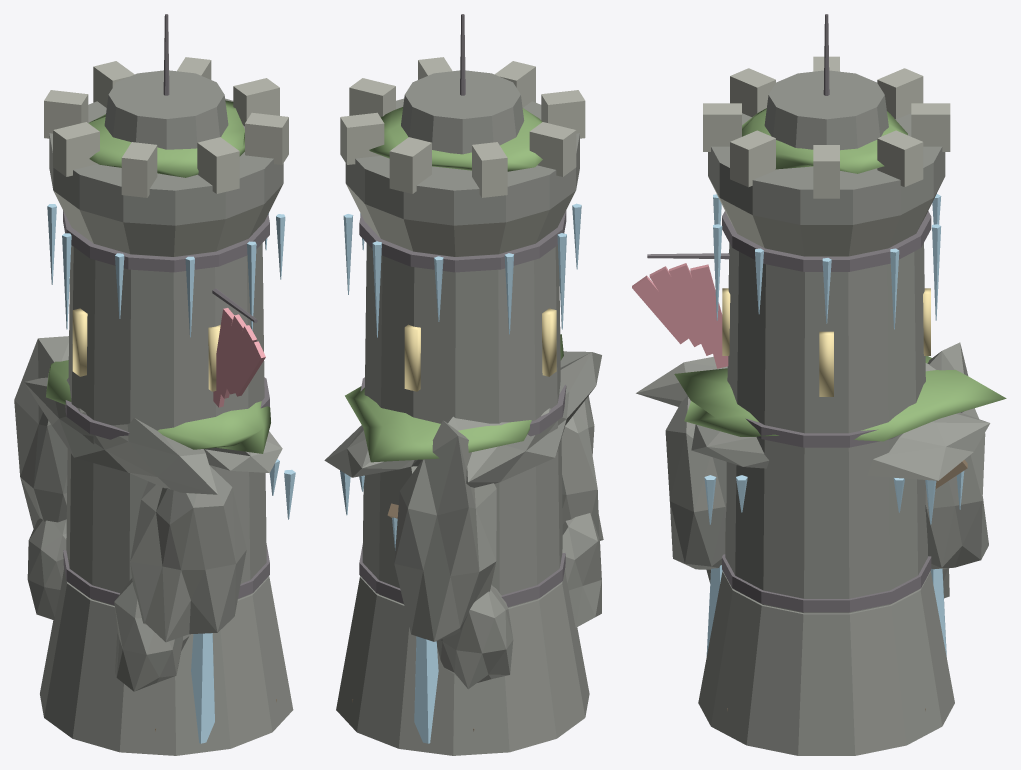
File: FrozenF19Kit.fbx
The picture shows the model from 3 angles, left to right: view 1: azimuth 30°, elevation 25°; view 2: azimuth 150°, elevation 25°; view 3: azimuth 270°, elevation 25°; orthographic projection.
Parts seen in each view (by area): view 1: WhiteguardTower__STONE, IceCaveOverhang__STONE, WhiteguardTower__TRIM, WhiteguardTower__METAL, IceCaveOverhang__MOSS, WhiteguardTower__ALT, WhiteguardTower__MOSS, WhiteguardTower__CRYSTAL, IceCaveOverhang__CRYSTAL, WhiteguardTower__GLOW; view 2: WhiteguardTower__STONE, IceCaveOverhang__STONE, WhiteguardTower__TRIM, WhiteguardTower__METAL, IceCaveOverhang__MOSS, WhiteguardTower__CRYSTAL, WhiteguardTower__MOSS, IceCaveOverhang__CRYSTAL, WhiteguardTower__GLOW; view 3: WhiteguardTower__STONE, IceCaveOverhang__STONE, WhiteguardTower__TRIM, WhiteguardTower__METAL, IceCaveOverhang__MOSS, WhiteguardTower__ALT, WhiteguardTower__CRYSTAL, WhiteguardTower__MOSS, IceCaveOverhang__CRYSTAL, WhiteguardTower__GLOW.
Part boxes in pixels (bbox=[...]): WhiteguardTower__STONE: bbox=[40, 70, 293, 755]; IceCaveOverhang__STONE: bbox=[14, 336, 282, 691]; WhiteguardTower__TRIM: bbox=[44, 57, 288, 256]; WhiteguardTower__METAL: bbox=[63, 14, 269, 605]; IceCaveOverhang__MOSS: bbox=[46, 360, 270, 453]; WhiteguardTower__ALT: bbox=[213, 308, 265, 407]; WhiteguardTower__MOSS: bbox=[88, 100, 244, 177]; WhiteguardTower__CRYSTAL: bbox=[47, 204, 285, 337]; IceCaveOverhang__CRYSTAL: bbox=[191, 459, 295, 743]; WhiteguardTower__GLOW: bbox=[72, 308, 220, 391]; WhiteguardTower__STONE: bbox=[336, 70, 589, 755]; IceCaveOverhang__STONE: bbox=[324, 351, 603, 689]; WhiteguardTower__TRIM: bbox=[340, 57, 585, 256]; WhiteguardTower__METAL: bbox=[359, 14, 566, 607]; IceCaveOverhang__MOSS: bbox=[345, 334, 563, 462]; WhiteguardTower__CRYSTAL: bbox=[343, 203, 581, 337]; WhiteguardTower__MOSS: bbox=[369, 107, 542, 171]; IceCaveOverhang__CRYSTAL: bbox=[340, 470, 438, 743]; WhiteguardTower__GLOW: bbox=[404, 308, 556, 391]; WhiteguardTower__STONE: bbox=[698, 70, 954, 755]; IceCaveOverhang__STONE: bbox=[636, 342, 990, 598]; WhiteguardTower__TRIM: bbox=[703, 56, 950, 256]; WhiteguardTower__METAL: bbox=[647, 14, 931, 612]; IceCaveOverhang__MOSS: bbox=[674, 356, 1006, 441]; WhiteguardTower__ALT: bbox=[632, 263, 728, 368]; WhiteguardTower__CRYSTAL: bbox=[713, 194, 941, 329]; WhiteguardTower__MOSS: bbox=[742, 108, 907, 173]; IceCaveOverhang__CRYSTAL: bbox=[704, 475, 946, 657]; WhiteguardTower__GLOW: bbox=[722, 288, 930, 396].
Size of the model in its own units: 20.67 by 62.7 by 30.94.
